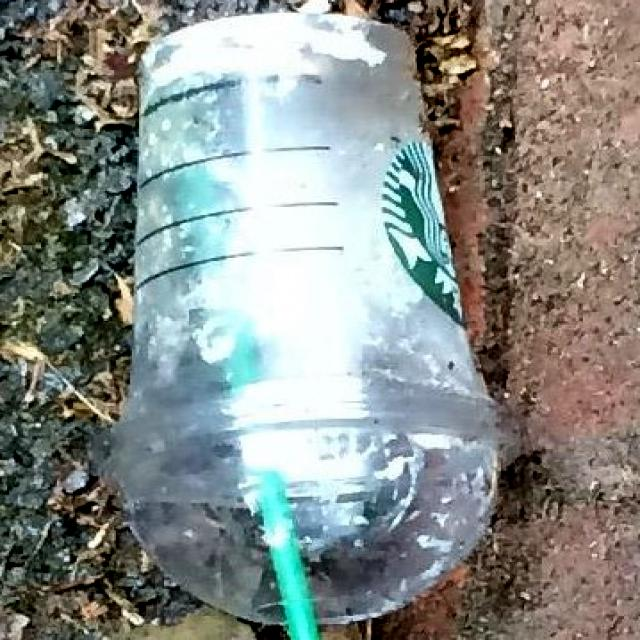Trash: (88, 4, 513, 635)
